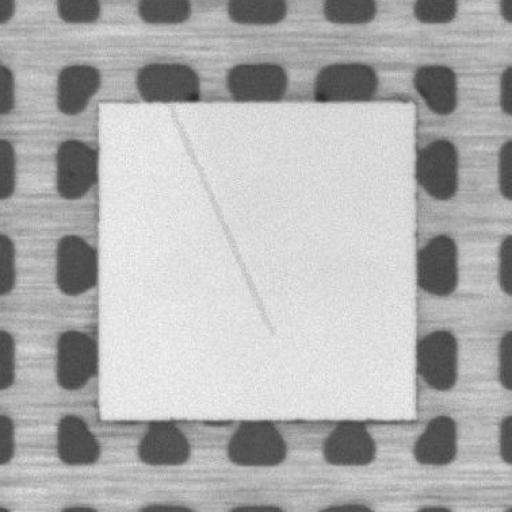DIE_CRACK: (170, 108, 270, 332)
